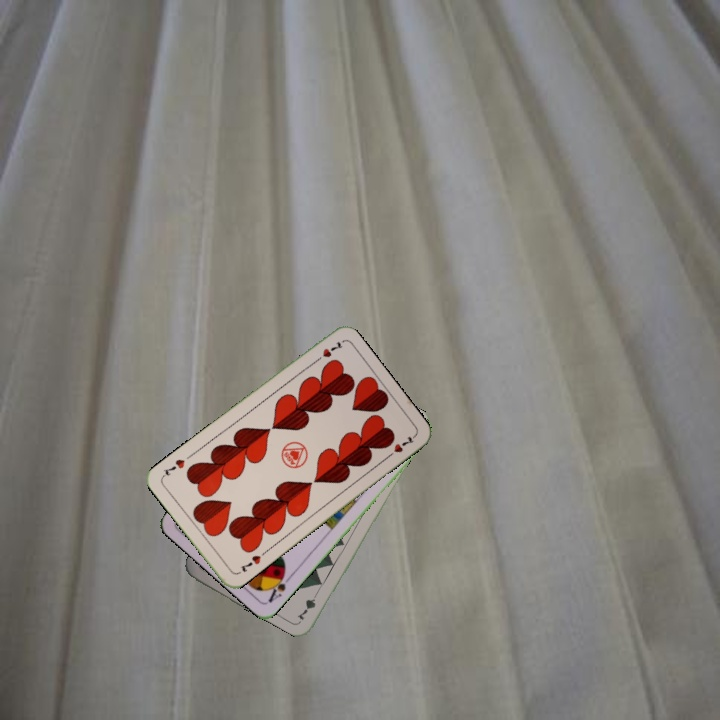G7: (296, 585, 323, 623)
H7: (310, 337, 345, 366), (236, 551, 263, 575)
SA: (264, 567, 295, 605)
